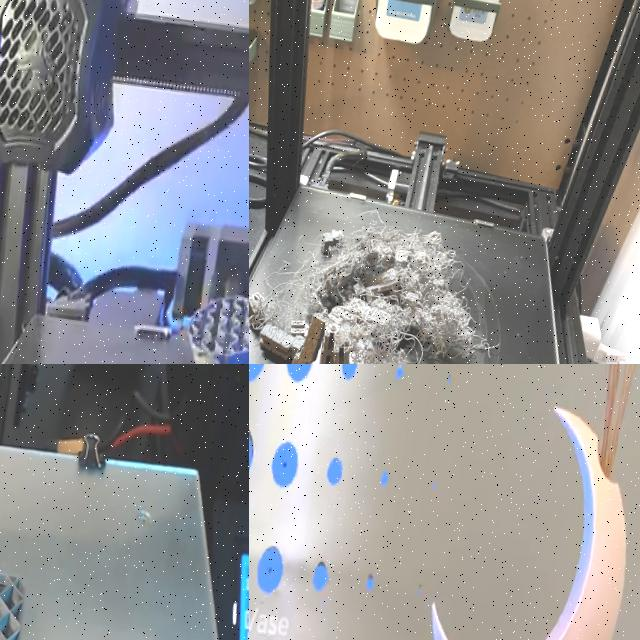spaghetti: (249, 200, 518, 364)
